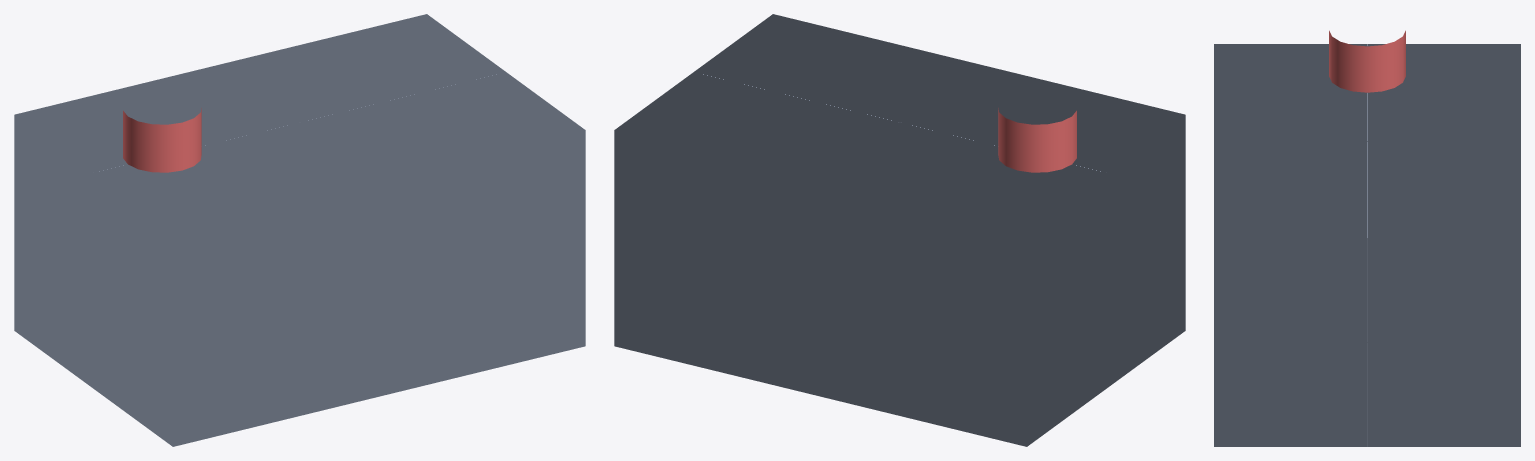
Rendered from battery_storage.glb.
3 views of the same model, side by side, from view 1: azimuth 30°, elevation 25°; view 2: azimuth 150°, elevation 25°; view 3: azimuth 270°, elevation 25° (orthographic). The views are drawn at different scales.
Visible parts, largest first — view 1: BatteryModuleEnclosure, BatteryTerminalPosts; view 2: BatteryModuleEnclosure, BatteryTerminalPosts; view 3: BatteryModuleEnclosure, BatteryTerminalPosts.
Part boxes in pixels (x1,y1,x2,y2): BatteryModuleEnclosure: [14, 14, 585, 446]; BatteryTerminalPosts: [123, 108, 201, 172]; BatteryModuleEnclosure: [614, 14, 1185, 446]; BatteryTerminalPosts: [998, 108, 1076, 172]; BatteryModuleEnclosure: [1214, 44, 1520, 446]; BatteryTerminalPosts: [1329, 30, 1405, 92].
Size of the model in its own units: 1.8 by 1.1 by 1.2.
